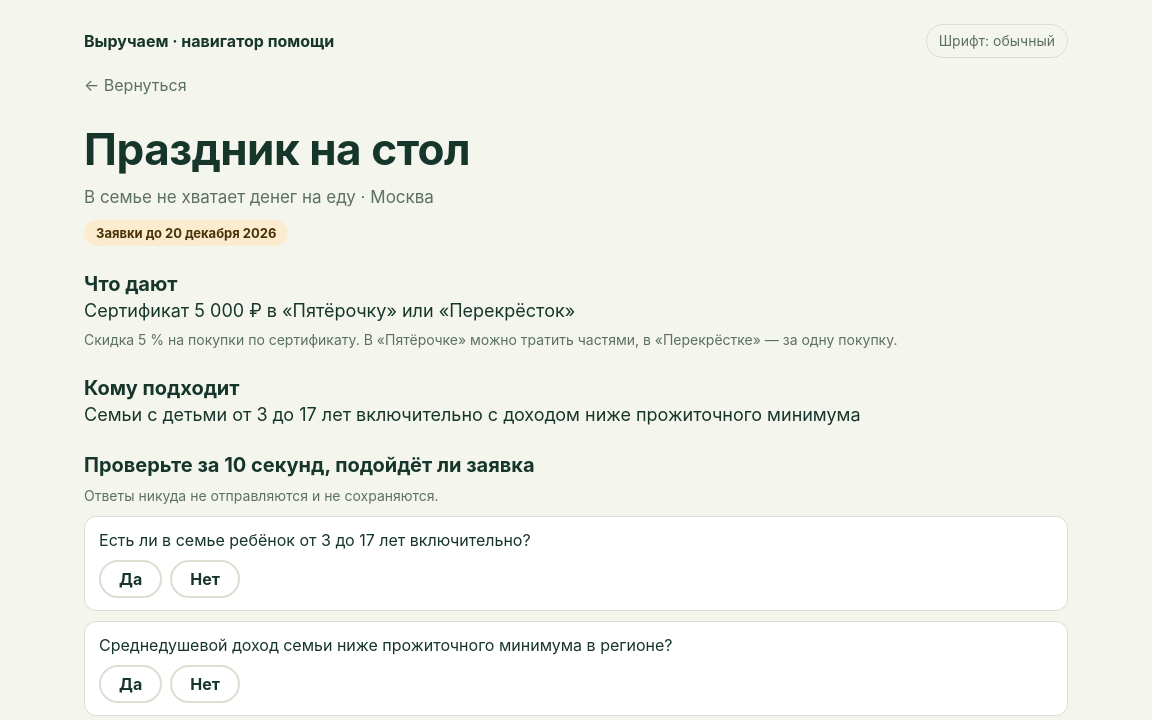
Test: приложение › чек критериев «Праздника»: три «Да» — можно заполнять заявку
This screenshot has width=1152, height=720.
Click the 1st button "Да": (131, 579) [99,560,162,598]
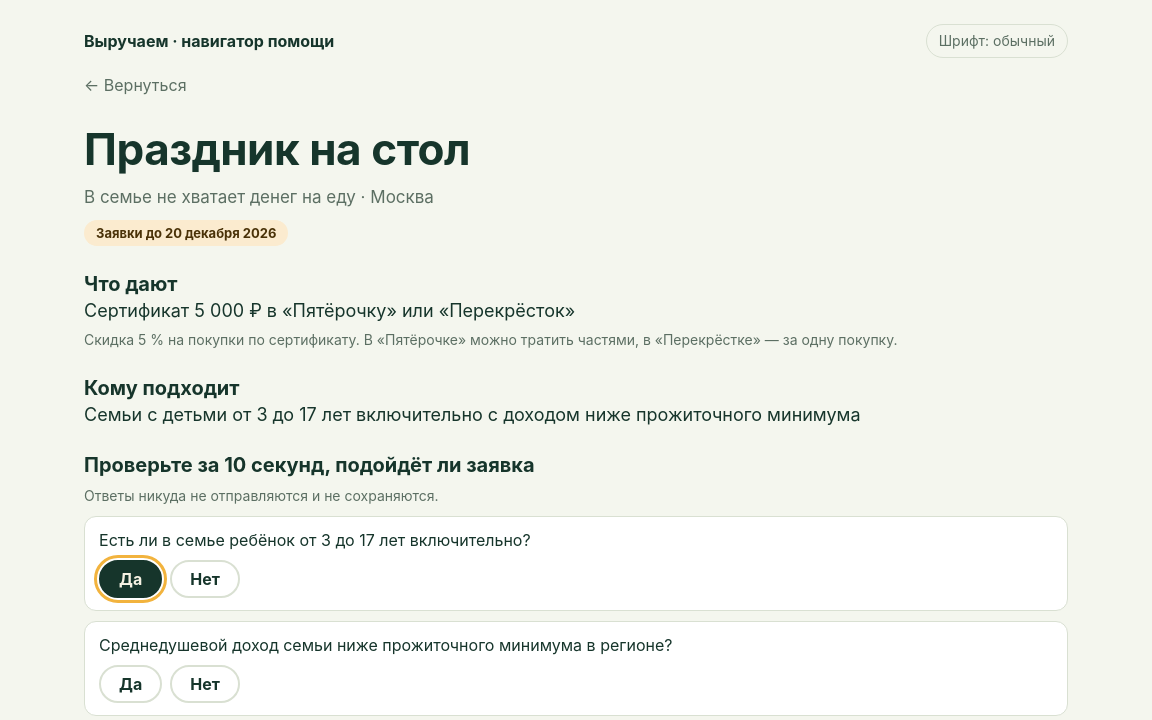
Click the 2nd button "Да": (131, 684) [99,665,162,703]
(page scrolled)
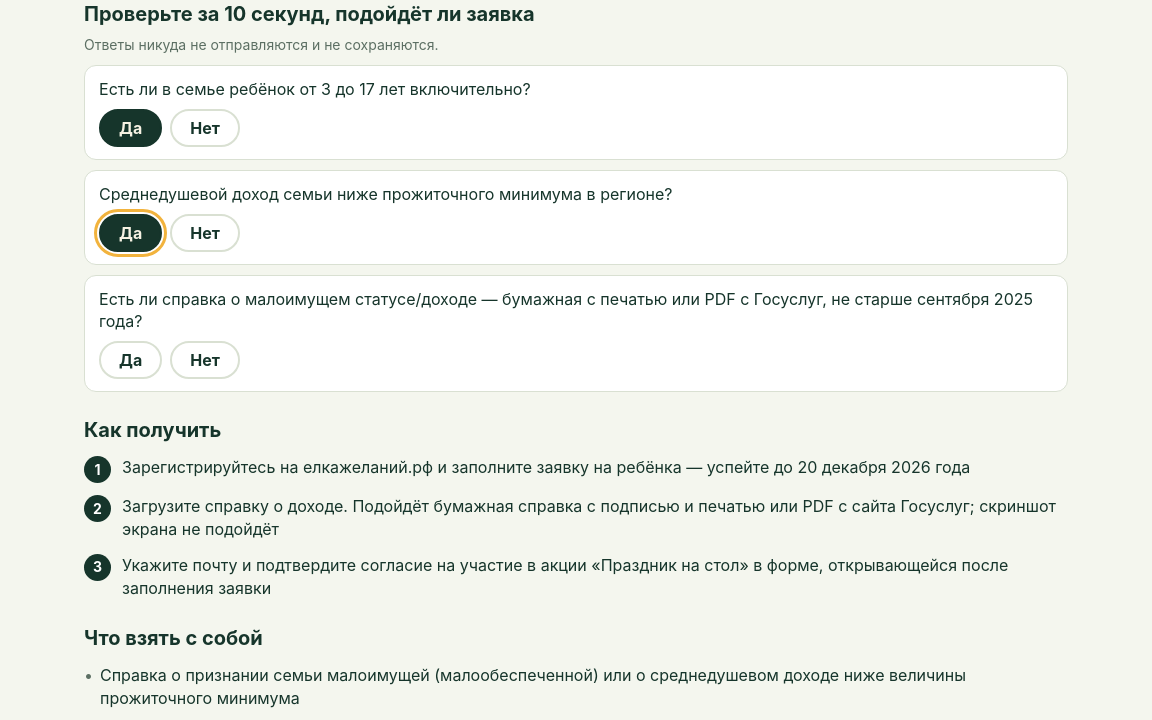
Click the 3rd button "Да": (131, 360) [99,341,162,379]
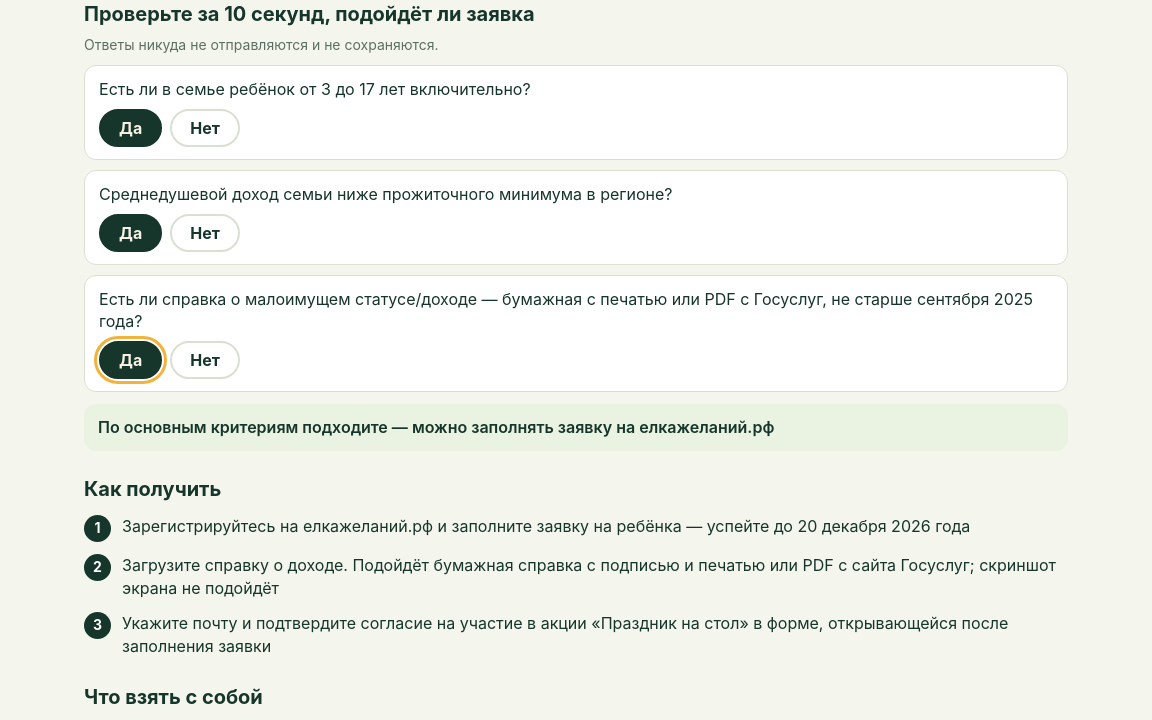
Expected: the text "По основным критериям подходите" is shown, [98,417,774,437]
